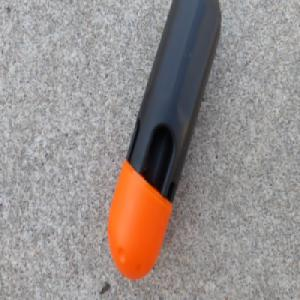PlasticPart: (107, 0, 221, 282)
